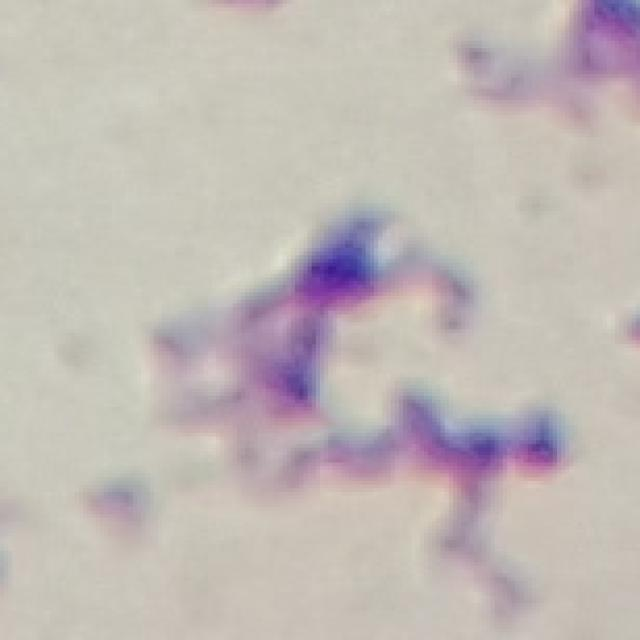non-sperm: (158, 212, 567, 496)
